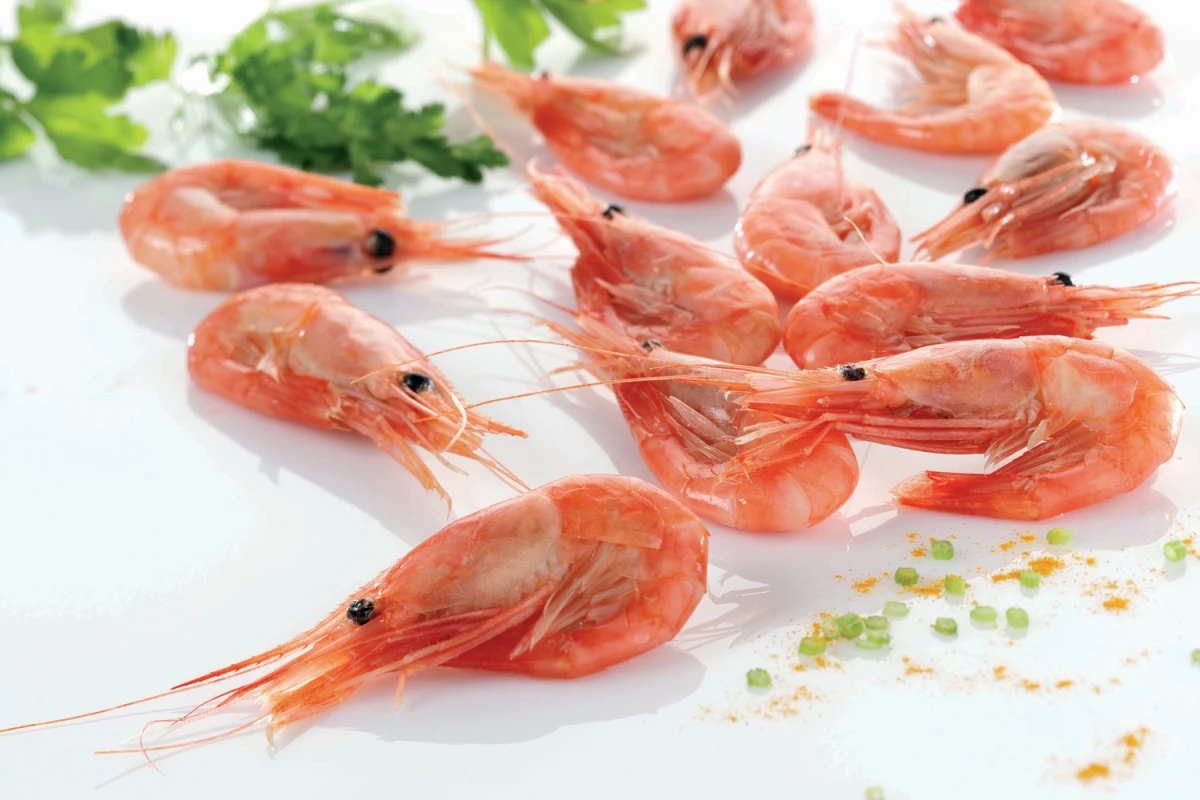food_waste: (226, 528, 735, 710), (165, 294, 511, 476), (758, 349, 1158, 505), (549, 199, 752, 357), (501, 64, 729, 187), (752, 124, 900, 293), (952, 140, 1122, 252)
